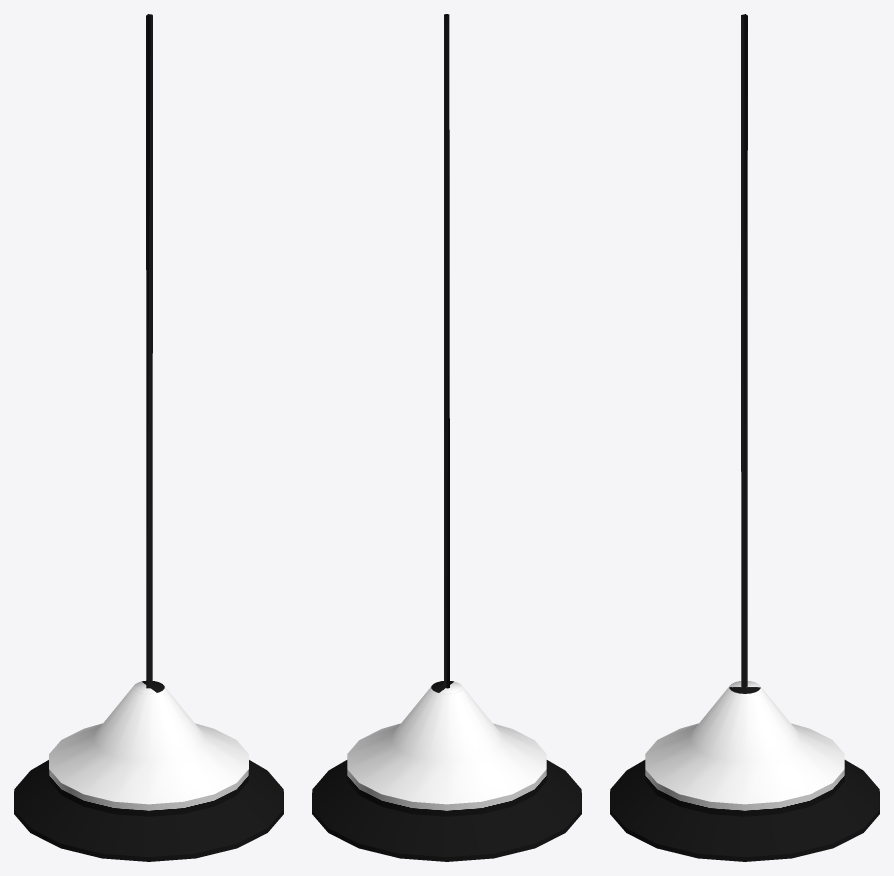
File: Ceiling lamp 2.FBX
3 views of the same model, side by side, from view 1: azimuth 30°, elevation 25°; view 2: azimuth 150°, elevation 25°; view 3: azimuth 270°, elevation 25° (orthographic).
Visible parts, largest first — view 1: Lamp 2; view 2: Lamp 2; view 3: Lamp 2.
Part boxes in pixels (bbox=[...]): Lamp 2: bbox=[14, 14, 283, 861]; Lamp 2: bbox=[312, 14, 581, 861]; Lamp 2: bbox=[610, 14, 879, 861].
Bounding box in the file's own units: 31.01 × 104 × 30.54.
2 materials, 1 textured.
